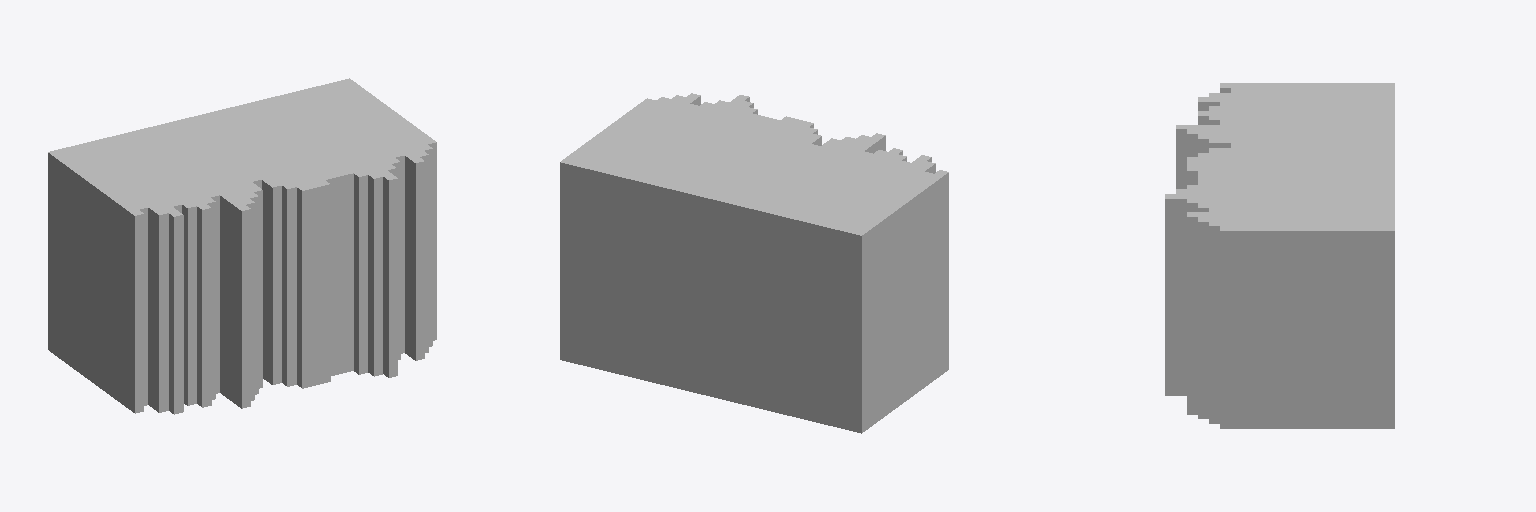
File: pondtile-2.obj
The picture shows the model from 3 angles: view 1: azimuth 30°, elevation 25°; view 2: azimuth 150°, elevation 25°; view 3: azimuth 270°, elevation 25°; orthographic projection.
Visible parts, largest first — view 1: pondtile-2; view 2: pondtile-2; view 3: pondtile-2.
Boxes of the visible parts, <box> form: pondtile-2: <box>48,78,436,414</box>; pondtile-2: <box>560,93,948,433</box>; pondtile-2: <box>1165,83,1394,428</box>.
Size of the model in its own units: 3.2 by 2 by 2.1.